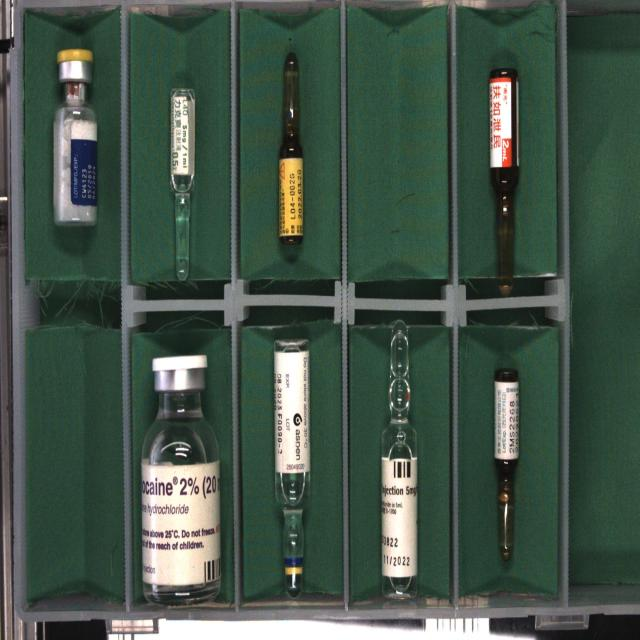Vials: (141, 355, 221, 604), (54, 49, 97, 226)
